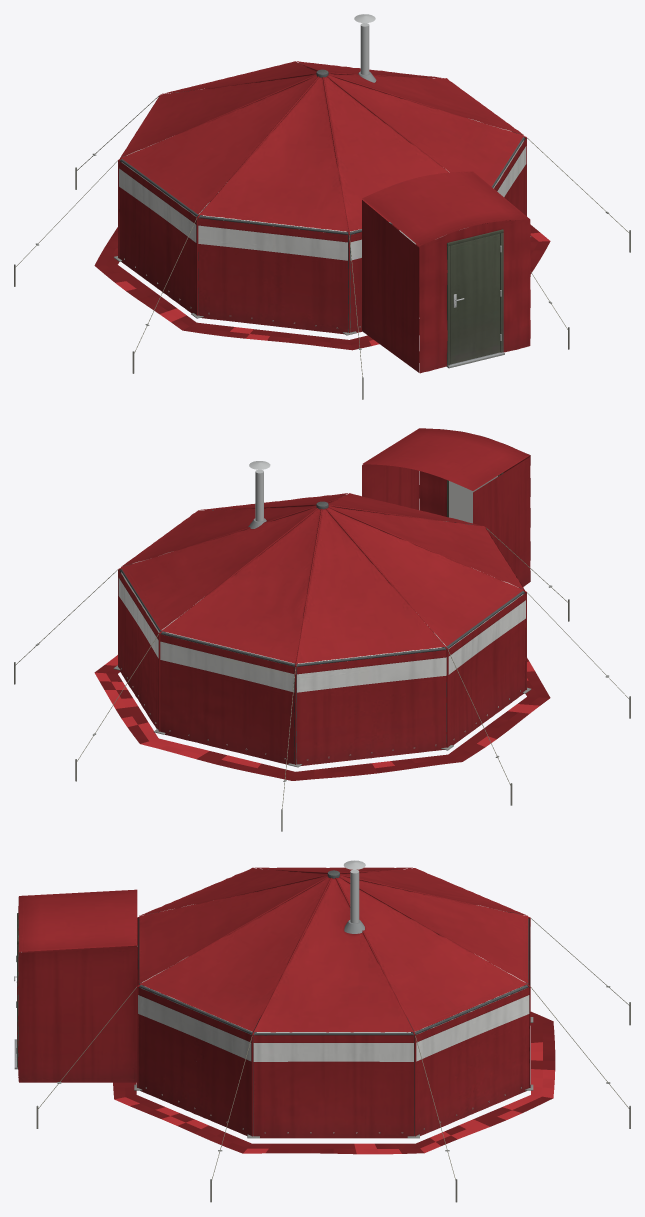
File: polar-chief-deployed.glb
3 renders of one model, top to bottom at view 1: azimuth 30°, elevation 25°; view 2: azimuth 150°, elevation 25°; view 3: azimuth 270°, elevation 25°, orthographic. The views are drawn at different scales.
Parts seen in each view (by area): view 1: POLARCHIEF_shelter; view 2: POLARCHIEF_shelter, POLARCHIEF_interior; view 3: POLARCHIEF_shelter, POLARCHIEF_interior.
Boxes of the visible parts, x1,y1,x2,y2 form: POLARCHIEF_shelter: (14,14,630,399); POLARCHIEF_shelter: (14,428,630,831); POLARCHIEF_interior: (121,521,523,663); POLARCHIEF_shelter: (14,860,630,1202); POLARCHIEF_interior: (141,904,525,1041).
Size of the model in its own units: 8.52 by 3.81 by 8.85.
13 materials, 6 textured.
